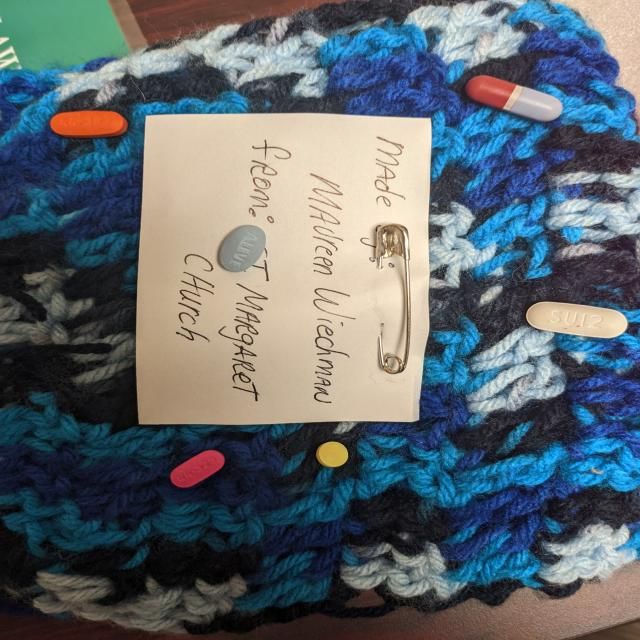non-organic waste: (465, 74, 564, 123), (525, 301, 630, 339), (218, 224, 267, 273), (50, 109, 128, 139), (170, 448, 227, 489), (314, 441, 350, 468)
